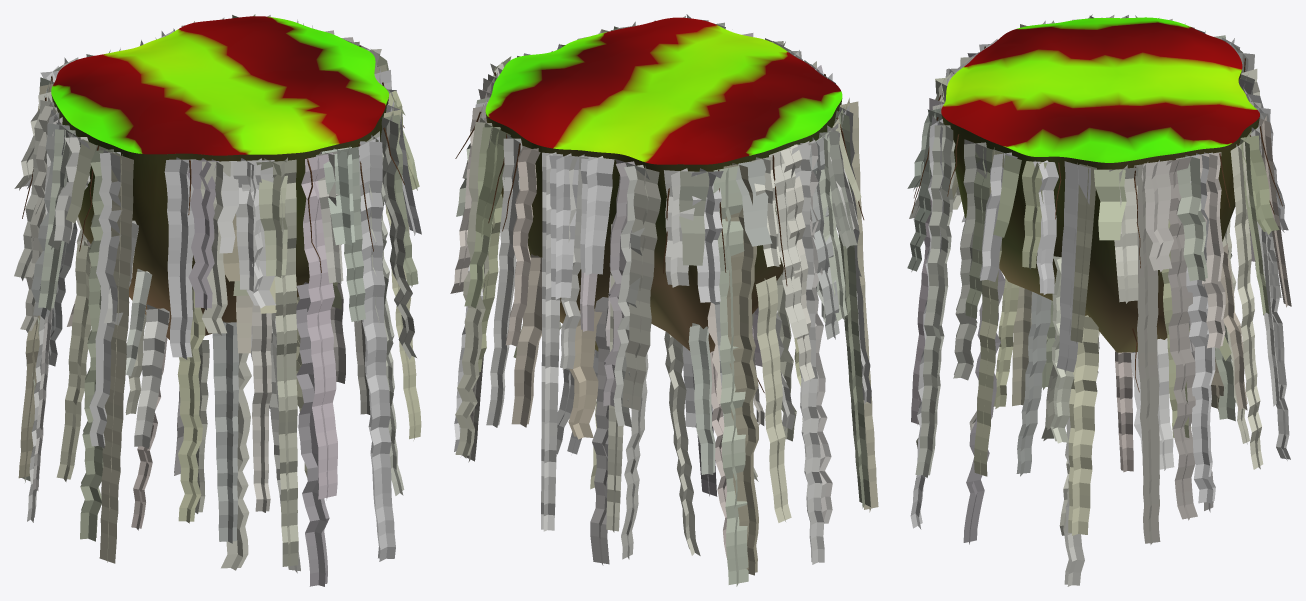
File: SM_H17_Floater03.fbx
3 renders of one model, left to right at view 1: azimuth 30°, elevation 25°; view 2: azimuth 150°, elevation 25°; view 3: azimuth 270°, elevation 25°, orthographic. The views are drawn at different scales.
Visible parts, largest first — view 1: SM_H17_Floater03_Ivy, SM_H17_Floater03; view 2: SM_H17_Floater03_Ivy, SM_H17_Floater03; view 3: SM_H17_Floater03_Ivy, SM_H17_Floater03.
Part boxes in pixels (<box>): SM_H17_Floater03_Ivy: <box>14,14,421,586</box>; SM_H17_Floater03: <box>51,16,389,339</box>; SM_H17_Floater03_Ivy: <box>450,14,878,586</box>; SM_H17_Floater03: <box>485,17,842,352</box>; SM_H17_Floater03_Ivy: <box>907,14,1291,586</box>; SM_H17_Floater03: <box>941,17,1259,352</box>.
Bounding box in the file's own units: 27.23 × 35.62 × 25.8.
